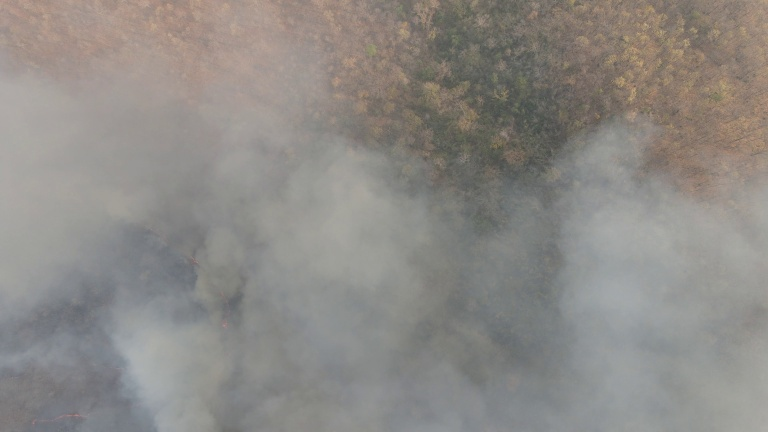fire: (172, 238, 232, 340), (30, 406, 97, 432)
smoke: (36, 83, 768, 428)
